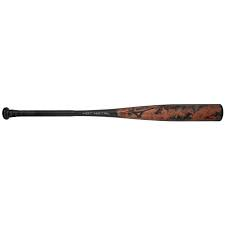baseball bat: (2, 102, 224, 122)
